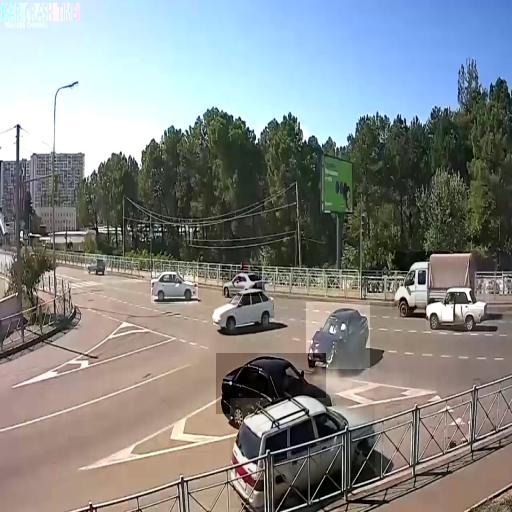小汽车: (230, 398, 375, 508), (216, 353, 326, 414), (392, 251, 470, 310), (306, 302, 370, 369), (212, 284, 276, 334), (426, 289, 489, 335), (151, 270, 198, 304), (222, 266, 262, 296), (84, 253, 107, 274)
